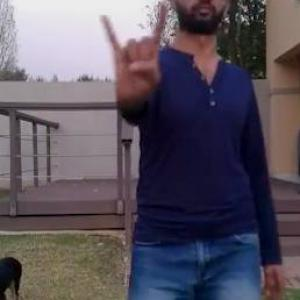takeoff-hand: (93, 0, 170, 103)
